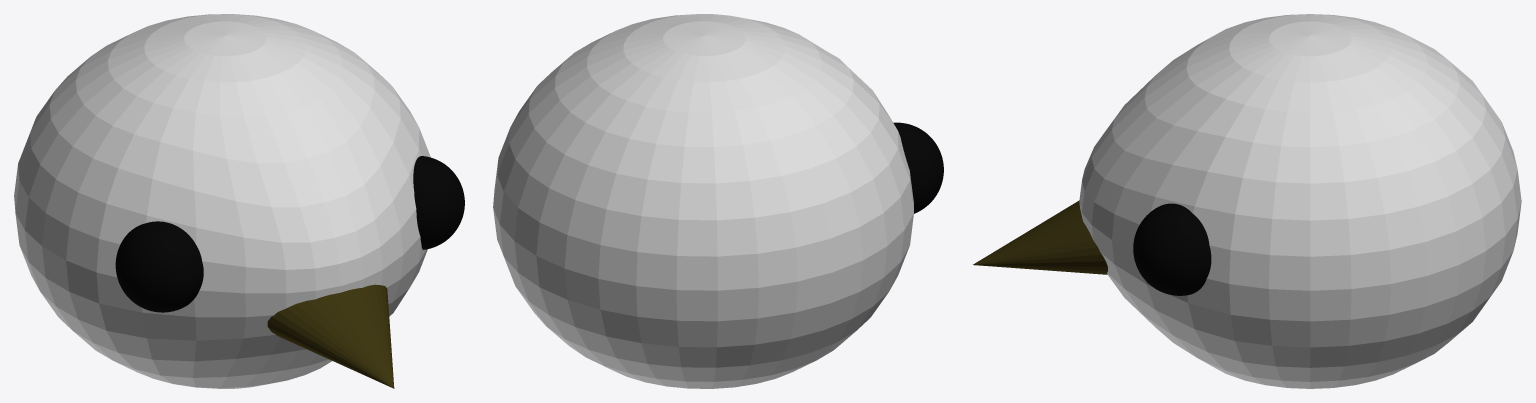
Rendered from birb.glb.
The picture shows the model from 3 angles, left to right: view 1: azimuth 30°, elevation 25°; view 2: azimuth 150°, elevation 25°; view 3: azimuth 270°, elevation 25°; orthographic projection.
Parts seen in each view (by area): view 1: Sphere, Sphere.001, Cone; view 2: Sphere, Sphere.001; view 3: Sphere, Sphere.001, Cone.
Boxes of the visible parts, x1,y1,x2,y2 form: Sphere: (14,14,430,388); Sphere.001: (115,156,464,312); Cone: (267,284,394,388); Sphere: (493,14,913,388); Sphere.001: (893,122,943,213); Sphere: (1079,14,1521,388); Sphere.001: (1133,203,1211,295); Cone: (973,200,1107,274).
Size of the model in its own units: 2 by 1.73 by 2.6.
